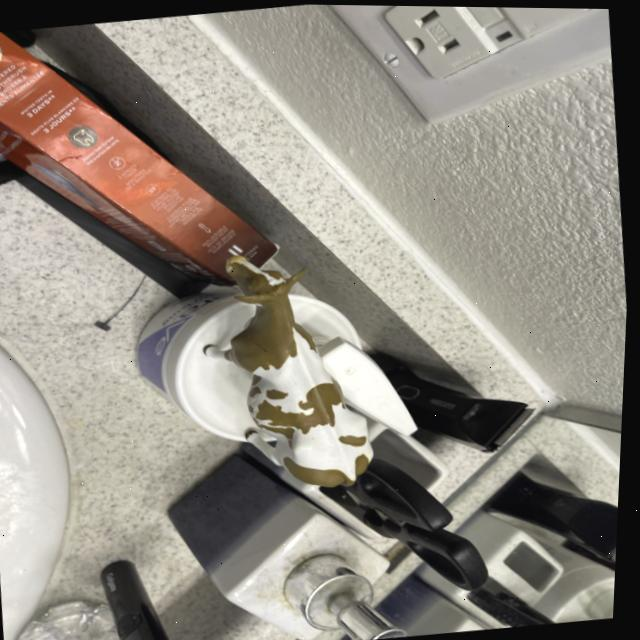cow: (180, 231, 390, 515)
